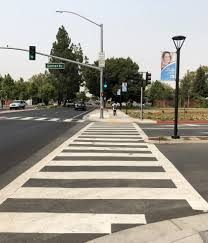crosswalk: (0, 120, 207, 242)
pedestrian_stop: (104, 82, 107, 88)
